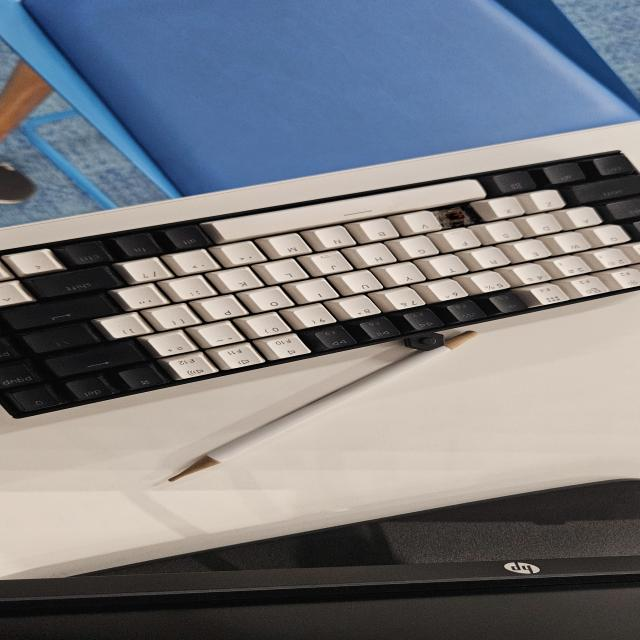C: (439, 207, 464, 227)
